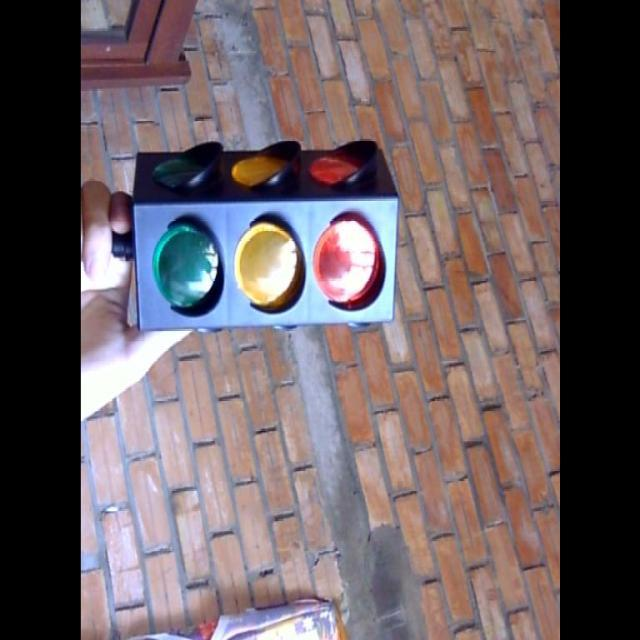red light: (306, 198, 390, 320)
